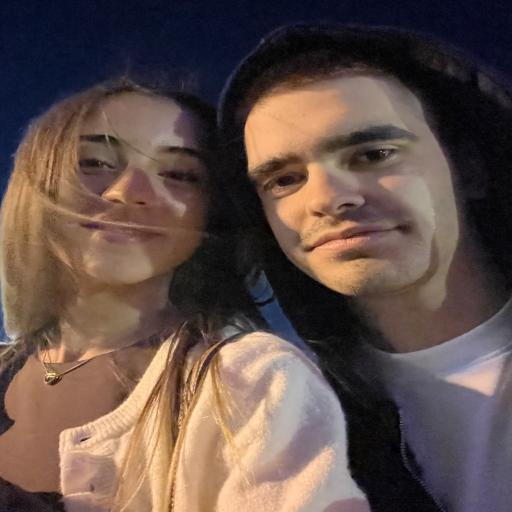masa: (75, 97, 205, 284)
